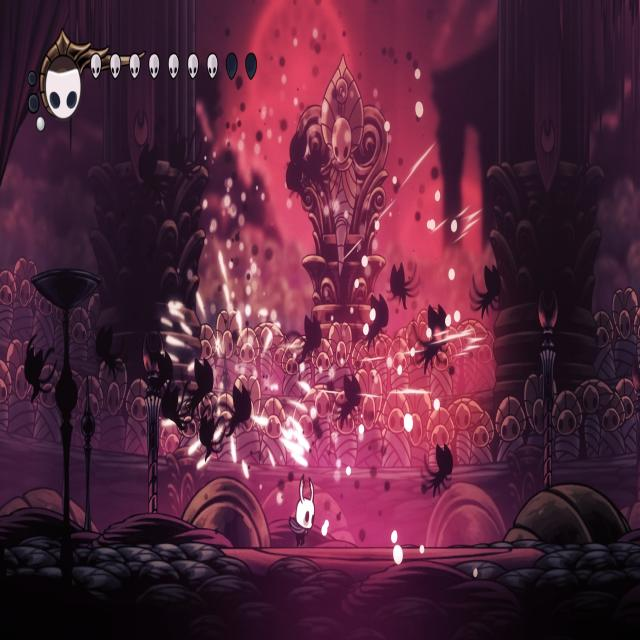Player: (287, 472, 315, 553)
Staggered_Grimm: (411, 302, 451, 377)
